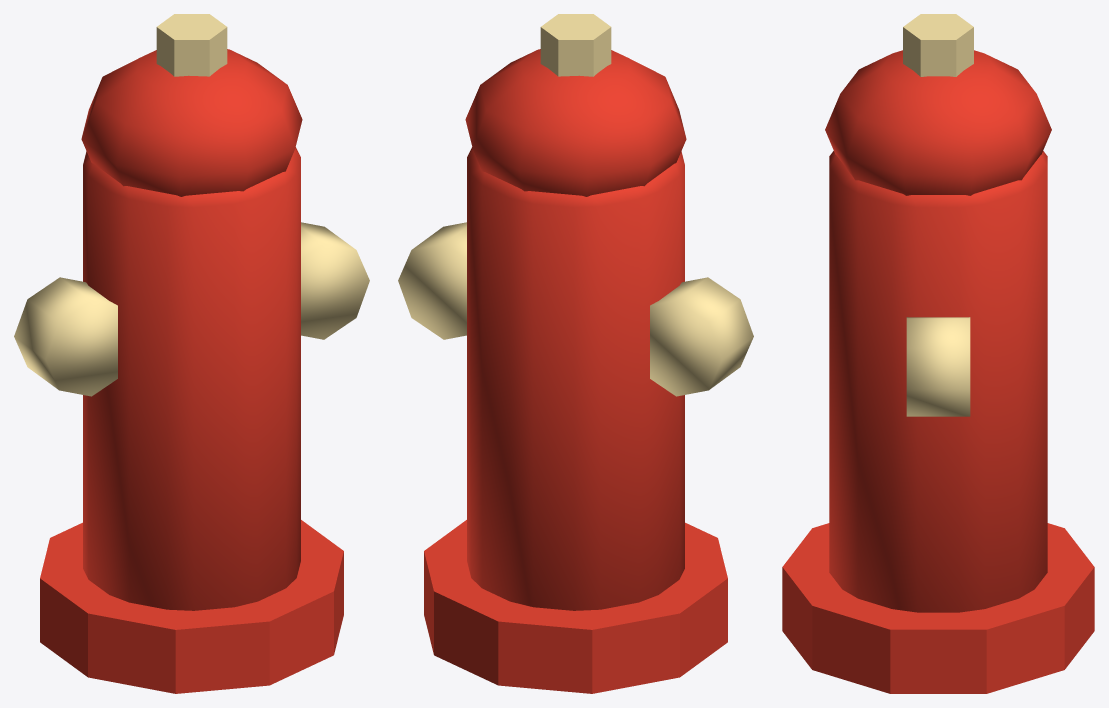
The model's file is hd_hydrant.gltf.
The picture shows the model from 3 angles, left to right: view 1: azimuth 30°, elevation 25°; view 2: azimuth 150°, elevation 25°; view 3: azimuth 270°, elevation 25°; orthographic projection.
Parts seen in each view (by area): view 1: body, base, dome, cap3.141592653589793, cap0, nut; view 2: body, base, dome, cap3.141592653589793, cap0, nut; view 3: body, base, dome, cap0, nut.
Boxes of the visible parts, bbox=[...] form: body: bbox=[83, 147, 300, 610]; base: bbox=[40, 520, 343, 693]; dome: bbox=[81, 49, 302, 196]; cap3.141592653589793: bbox=[14, 277, 117, 396]; cap0: bbox=[301, 222, 369, 339]; nut: bbox=[156, 14, 227, 76]; body: bbox=[467, 147, 684, 610]; base: bbox=[424, 520, 727, 693]; dome: bbox=[465, 49, 686, 196]; cap3.141592653589793: bbox=[650, 277, 753, 396]; cap0: bbox=[398, 222, 466, 339]; nut: bbox=[540, 14, 611, 76]; body: bbox=[829, 151, 1047, 612]; base: bbox=[782, 523, 1094, 693]; dome: bbox=[825, 50, 1051, 195]; cap0: bbox=[906, 317, 970, 416]; nut: bbox=[903, 14, 973, 76].
Bounding box in the file's own units: 0.53 × 0.94 × 0.44.
